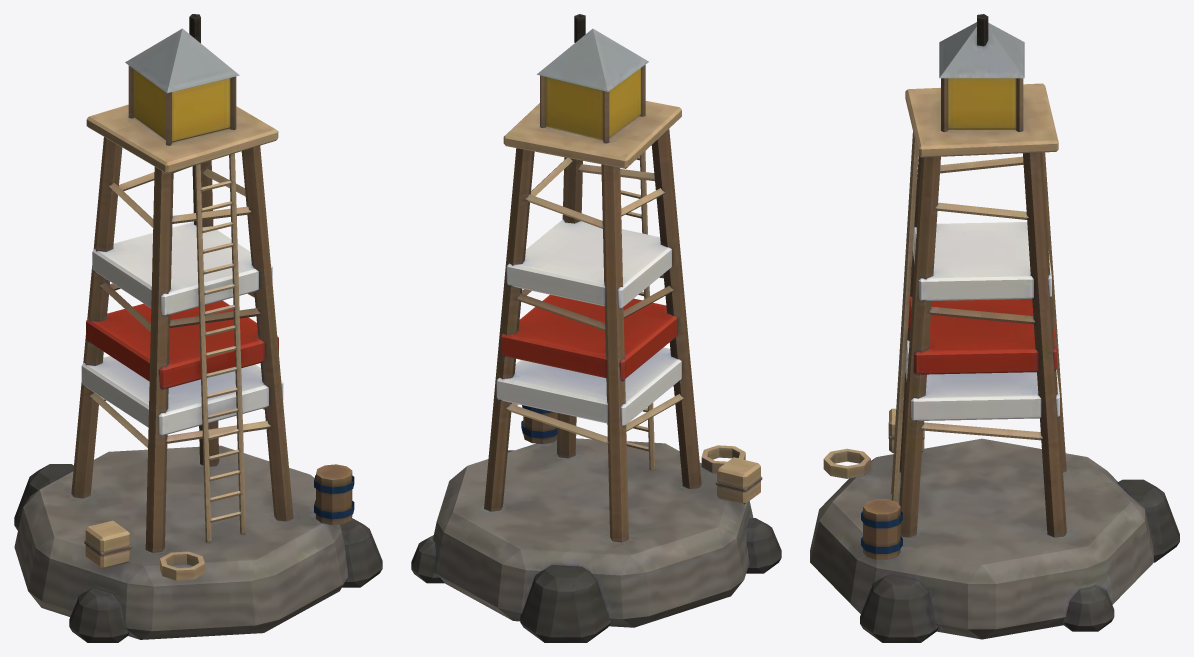
The model's file is lighthouse-1.glb.
3 renders of one model, left to right at view 1: azimuth 30°, elevation 25°; view 2: azimuth 150°, elevation 25°; view 3: azimuth 270°, elevation 25°, orthographic. The views are drawn at different scales.
Visible parts, largest first — view 1: lighthouse-1; view 2: lighthouse-1; view 3: lighthouse-1.
Part boxes in pixels (<box>): lighthouse-1: <box>14,14,382,642</box>; lighthouse-1: <box>411,14,781,642</box>; lighthouse-1: <box>810,14,1179,642</box>.
Bounding box in the file's own units: 1.4 × 2.46 × 1.47.
1 material, 1 textured.
